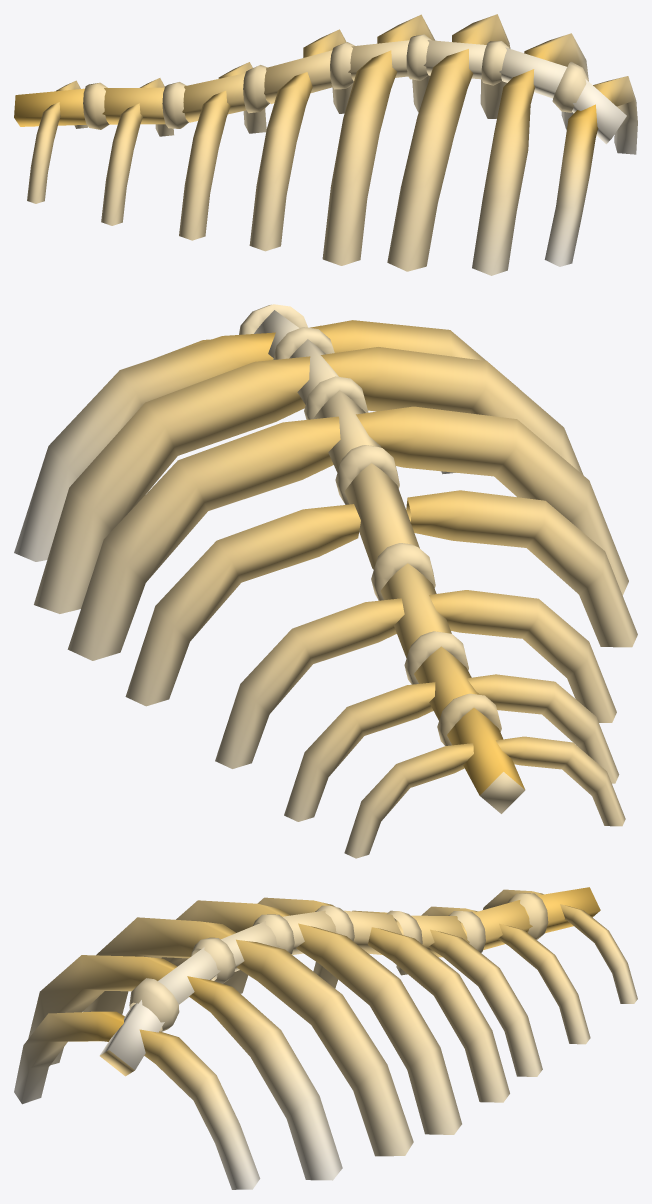
Rendered from Desert_Ribs_Small_0_1.fbx.
The picture shows the model from 3 angles, top to bottom: view 1: azimuth 30°, elevation 25°; view 2: azimuth 150°, elevation 25°; view 3: azimuth 270°, elevation 25°; orthographic projection. The views are drawn at different scales.
Visible parts, largest first — view 1: Costillas.001; view 2: Costillas.001; view 3: Costillas.001.
Boxes of the visible parts, x1,y1,x2,y2 form: Costillas.001: (14, 14, 637, 275); Costillas.001: (14, 304, 637, 858); Costillas.001: (14, 887, 637, 1189).
Size of the model in its own units: 564 by 187 by 556.
